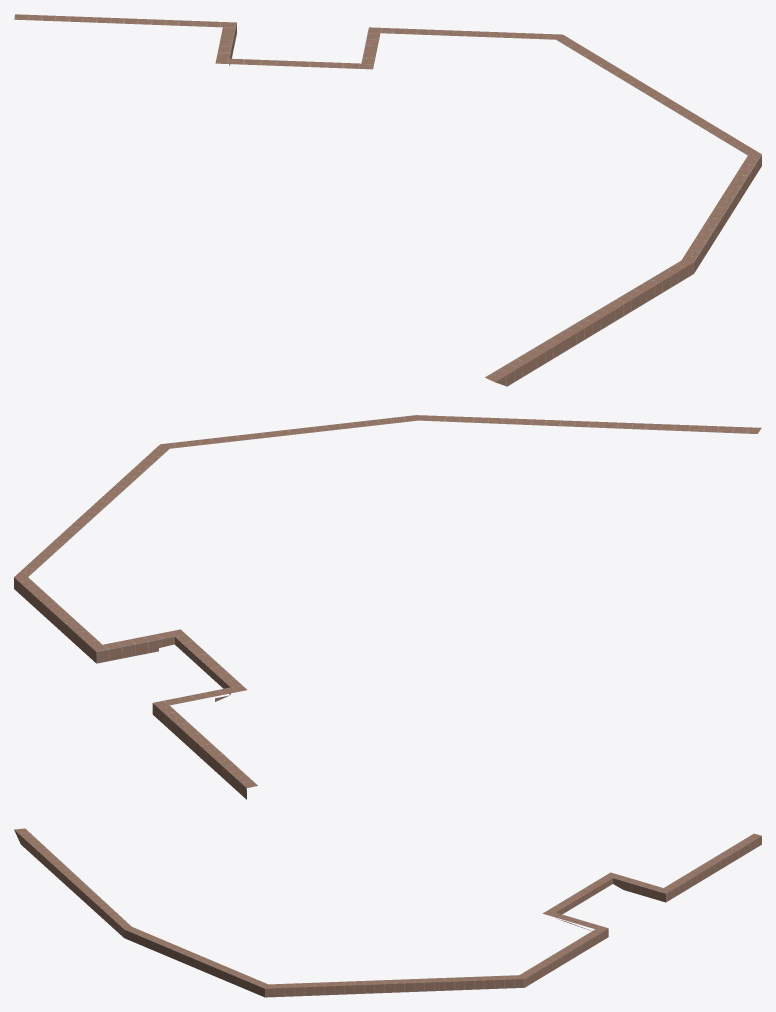
Rendered from kd_stage_135ebf_2_27.glb.
3 renders of one model, top to bottom at view 1: azimuth 30°, elevation 25°; view 2: azimuth 150°, elevation 25°; view 3: azimuth 270°, elevation 25°, orthographic. The views are drawn at different scales.
Parts seen in each view (by area): view 1: kd_stage_135ebf_2_27; view 2: kd_stage_135ebf_2_27; view 3: kd_stage_135ebf_2_27.
Boxes of the visible parts, box(x1,y1,x2,y2) form: kd_stage_135ebf_2_27: box(14, 14, 761, 386); kd_stage_135ebf_2_27: box(14, 415, 761, 799); kd_stage_135ebf_2_27: box(14, 828, 761, 997).
Size of the model in its own units: 11.74 by 0.3 by 23.14.
1 material, 1 textured.
